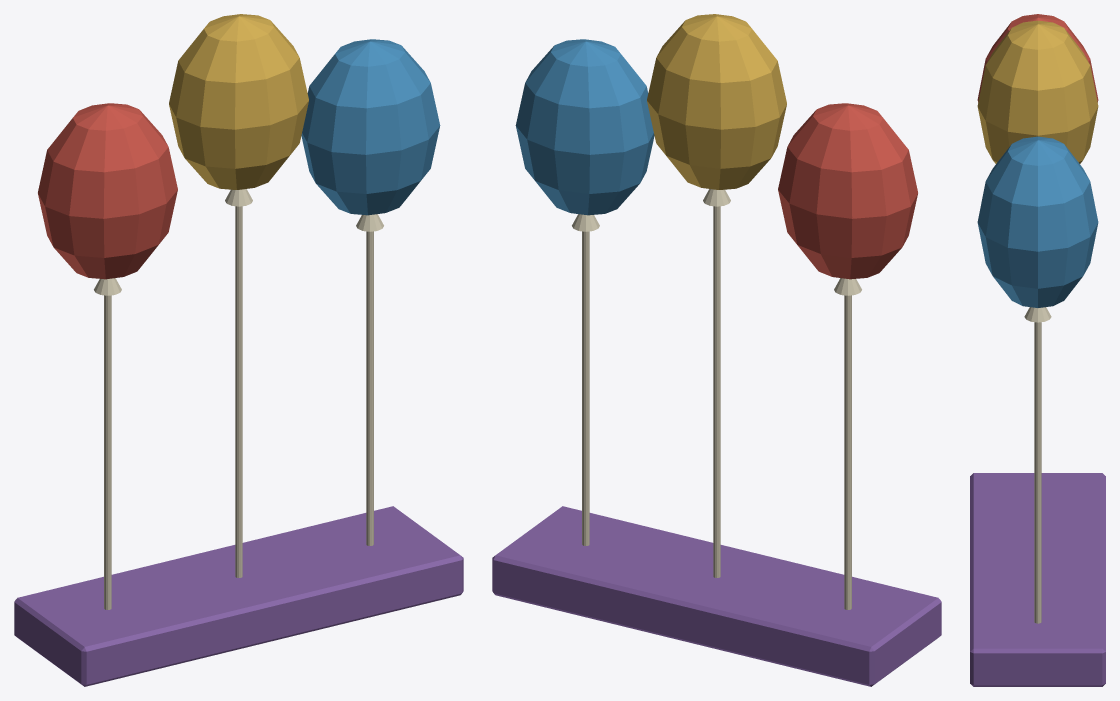
The model's file is balloons.glb.
The picture shows the model from 3 angles, left to right: view 1: azimuth 30°, elevation 25°; view 2: azimuth 150°, elevation 25°; view 3: azimuth 270°, elevation 25°; orthographic projection. The views are drawn at different scales.
Parts seen in each view (by area): view 1: Base, Target1, Target0, Target2; view 2: Base, Target1, Target0, Target2; view 3: Base, Target2, Target1, Target0.
Boxes of the visible parts, x1=… form: Base: x1=14, y1=206, x2=463, y2=686; Target1: x1=169, y1=14, x2=308, y2=206; Target0: x1=38, y1=103, x2=177, y2=295; Target2: x1=301, y1=39, x2=440, y2=231; Base: x1=492, y1=206, x2=941, y2=686; Target1: x1=647, y1=14, x2=786, y2=206; Target0: x1=778, y1=103, x2=917, y2=295; Target2: x1=515, y1=39, x2=654, y2=231; Base: x1=970, y1=322, x2=1105, y2=686; Target2: x1=977, y1=136, x2=1098, y2=322; Target1: x1=977, y1=20, x2=1098, y2=163; Target0: x1=977, y1=14, x2=1098, y2=102.
Size of the model in its own units: 1.42 by 2.1 by 0.45.
